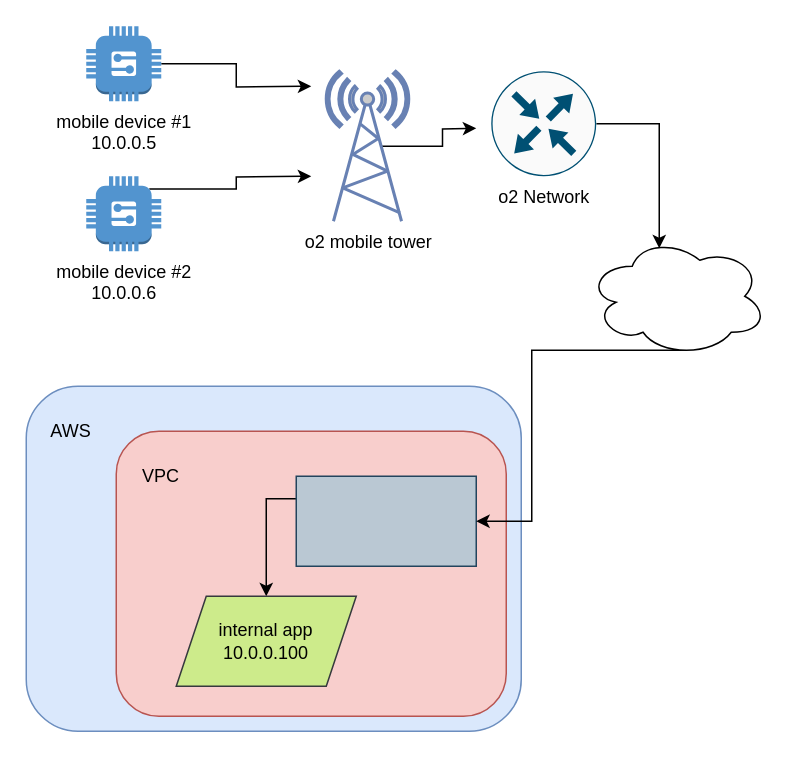
Image size: 794x758. Some labels were removed from this diagram. Each missing label, with the centre of its shape:
"Geeny SecureGateway" goes at point (385, 520).
"Internet" goes at point (676, 295).
